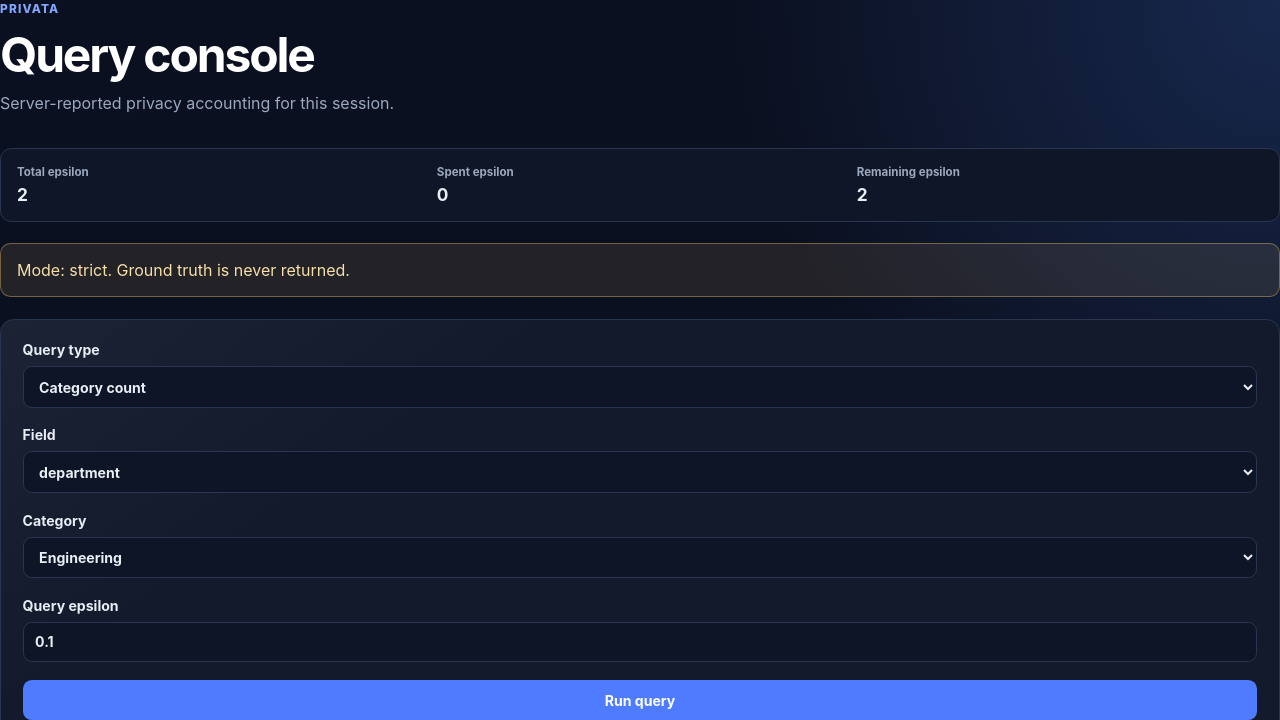
Privata frontend › does not display an unlabeled true result in strict mode
Click the button "Run query" at {"x": 640, "y": 700}, box [23,680,1257,719]
(page scrolled)
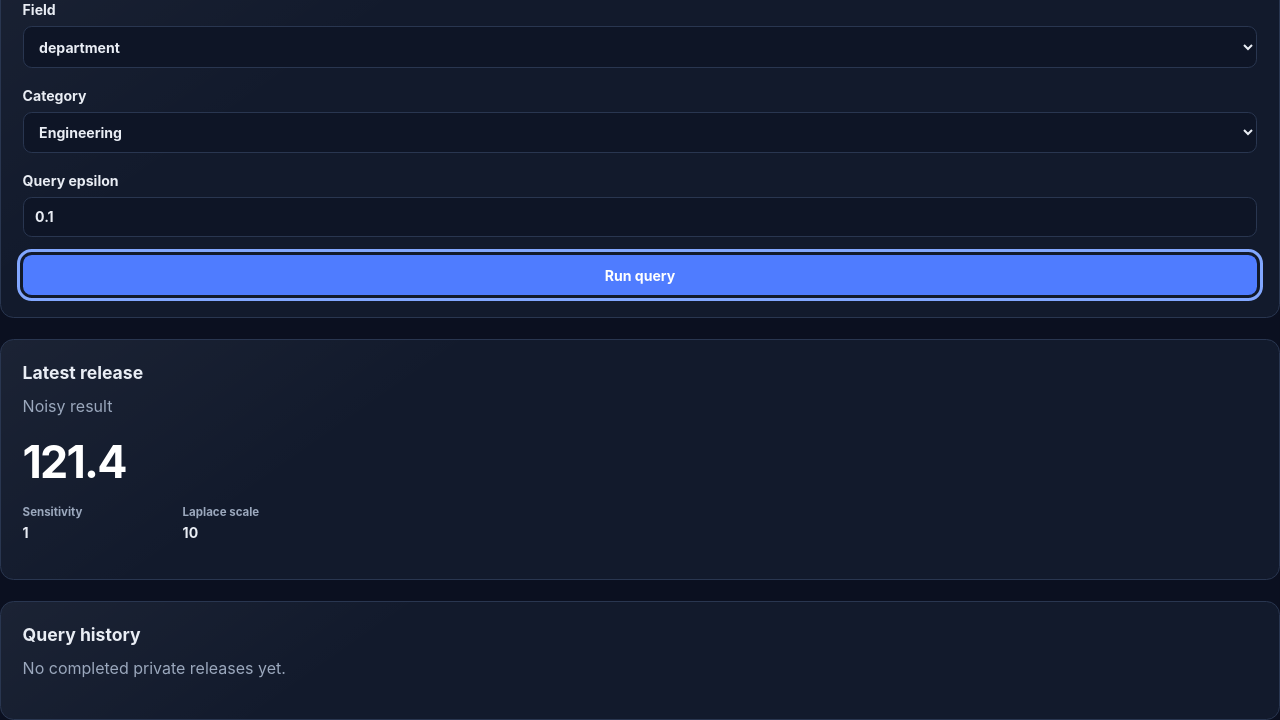
Expected: the text named "Noisy result" reads "121.4", [23,435,126,489]
